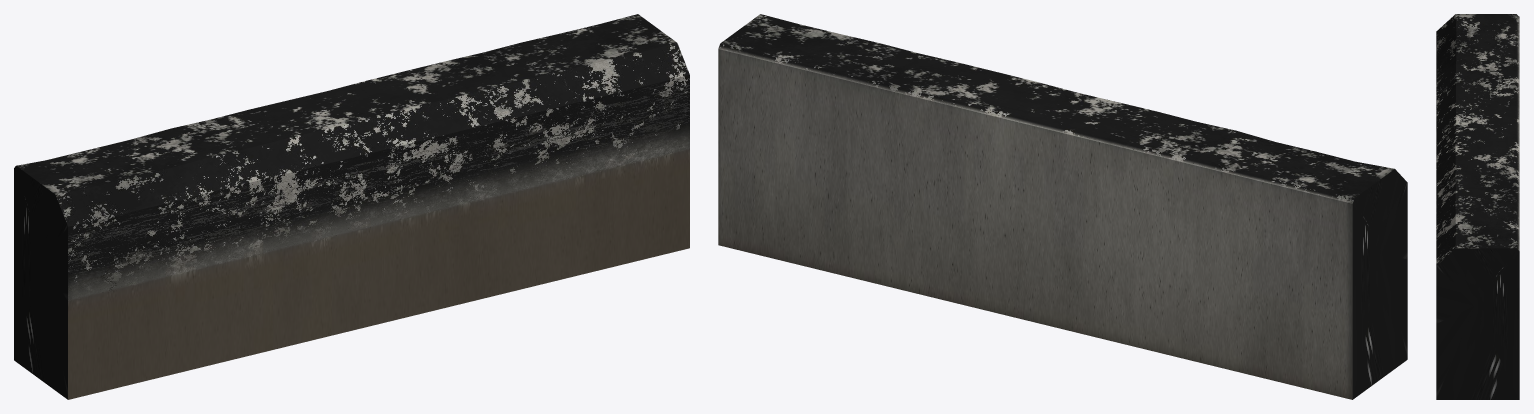
The model's file is curb_straight_black_web.glb.
3 views of the same model, side by side, from view 1: azimuth 30°, elevation 25°; view 2: azimuth 150°, elevation 25°; view 3: azimuth 270°, elevation 25° (orthographic). The views are drawn at different scales.
Visible parts, largest first — view 1: curb_straight_black_Mesh; view 2: curb_straight_black_Mesh; view 3: curb_straight_black_Mesh.
Part boxes in pixels (x1,y1,x2,y2): curb_straight_black_Mesh: (14, 14, 689, 399); curb_straight_black_Mesh: (718, 14, 1407, 399); curb_straight_black_Mesh: (1436, 14, 1519, 399).
Bounding box in the file's own units: 0.995 × 0.3 × 0.15.
1 material, 1 textured.
